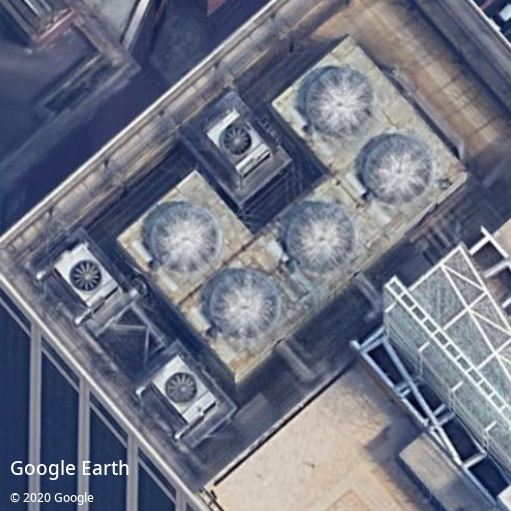Vent: (208, 269, 280, 338), (363, 135, 434, 204), (286, 203, 355, 272), (150, 204, 220, 272), (307, 69, 375, 134), (71, 261, 102, 291), (166, 373, 196, 404), (222, 126, 252, 155)
